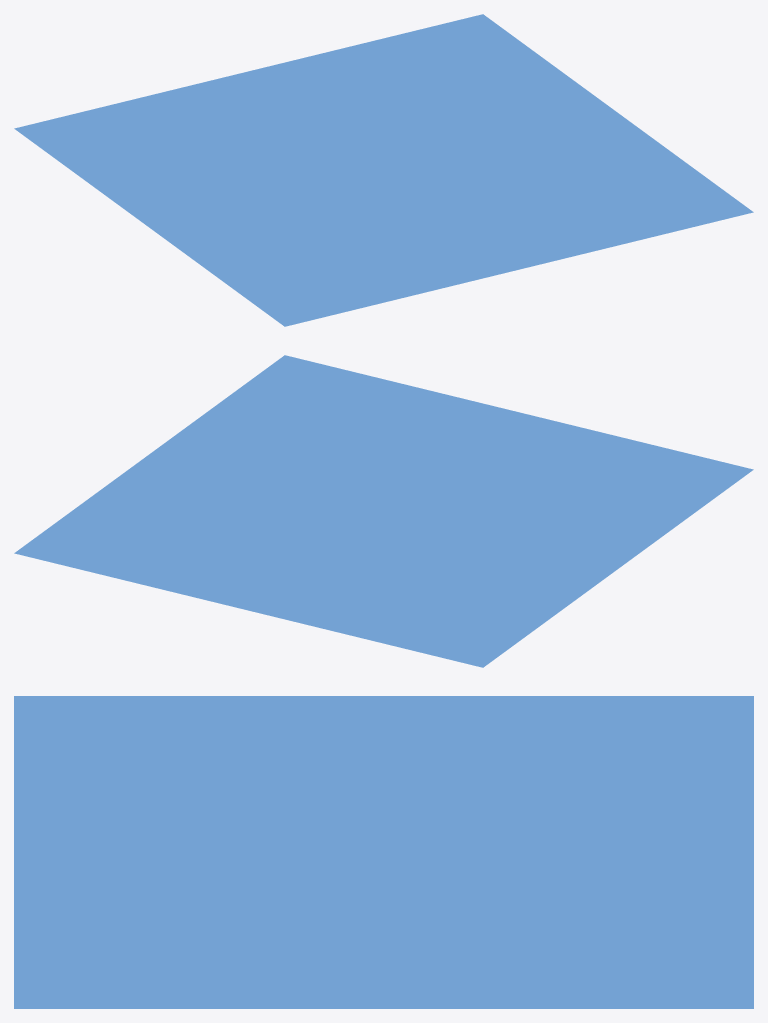
Rendered from ClothSheet.gltf.
3 renders of one model, top to bottom at view 1: azimuth 30°, elevation 25°; view 2: azimuth 150°, elevation 25°; view 3: azimuth 270°, elevation 25°, orthographic. The views are drawn at different scales.
Parts seen in each view (by area): view 1: ClothSheet; view 2: ClothSheet; view 3: ClothSheet.
Boxes of the visible parts, x1=… form: ClothSheet: x1=14, y1=14, x2=753, y2=326; ClothSheet: x1=14, y1=355, x2=753, y2=667; ClothSheet: x1=14, y1=696, x2=753, y2=1008.
Size of the model in its own units: 1.08 by 0 by 1.08.
